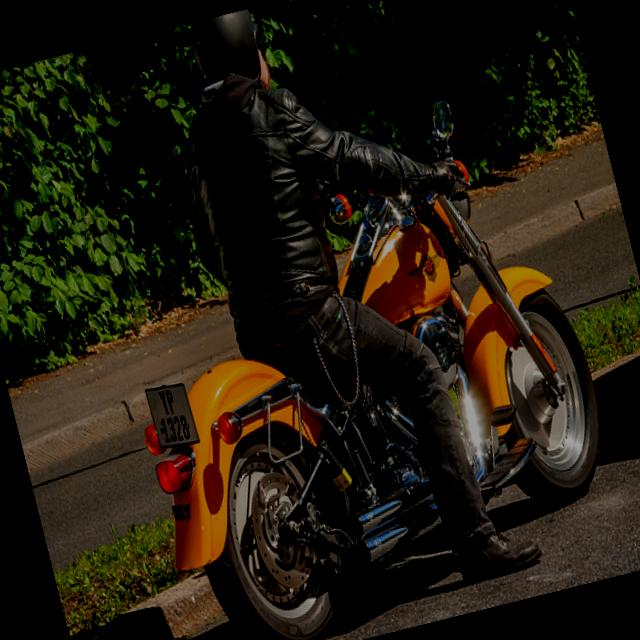Vehicle: (78, 78, 640, 640)
